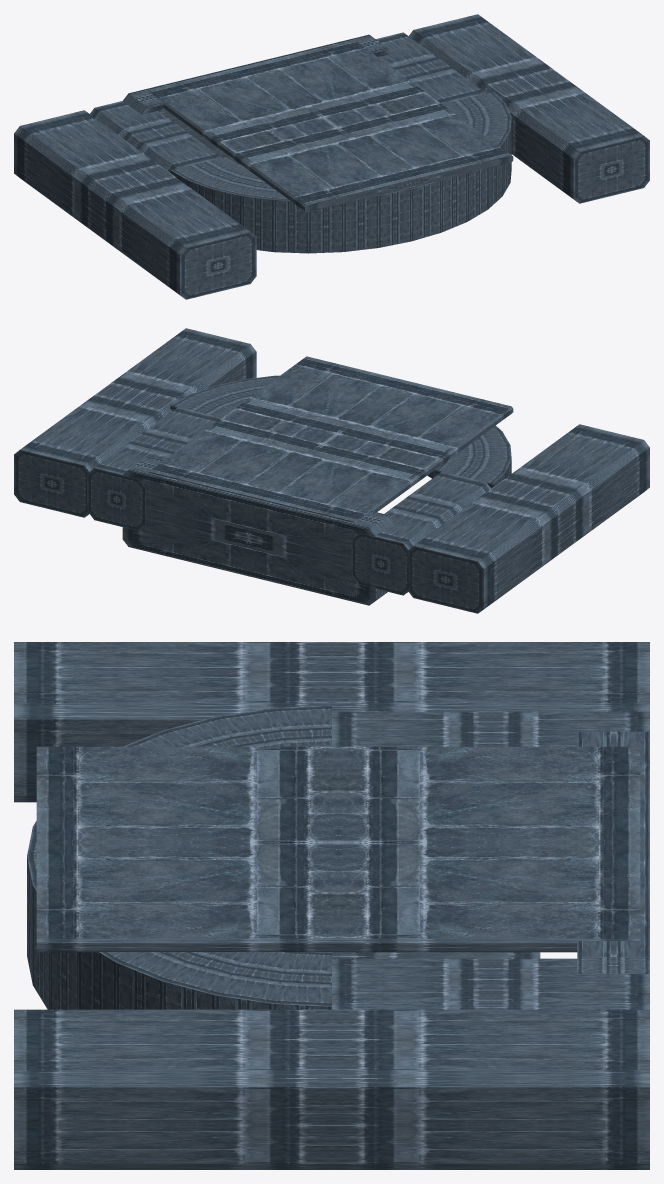
File: rv_interior_alcove.obj
The picture shows the model from 3 angles, top to bottom: view 1: azimuth 30°, elevation 25°; view 2: azimuth 150°, elevation 25°; view 3: azimuth 270°, elevation 25°; orthographic projection. The views are drawn at different scales.
Parts seen in each view (by area): view 1: rv_interior_alcove; view 2: rv_interior_alcove; view 3: rv_interior_alcove.
Part boxes in pixels (x1,y1,x2,y2): rv_interior_alcove: [14, 14, 649, 299]; rv_interior_alcove: [14, 328, 649, 613]; rv_interior_alcove: [14, 642, 649, 1169].
Size of the model in its own units: 8 by 1.27 by 4.9.
Materials: 1 (1 with a texture image).
